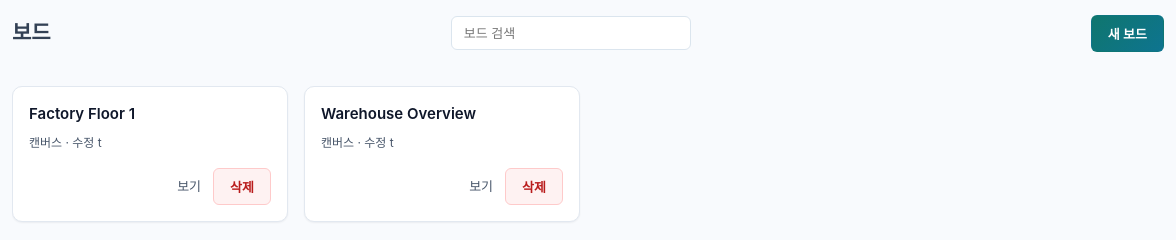
it: BoardsListPage › filters the board list by name as the search query changes
Expected: the link "Factory Floor 1" is shown, [29,104,135,123]
Type "floor" into the search field labelled "보드 검색" at [571, 33], box [451,16,691,50]
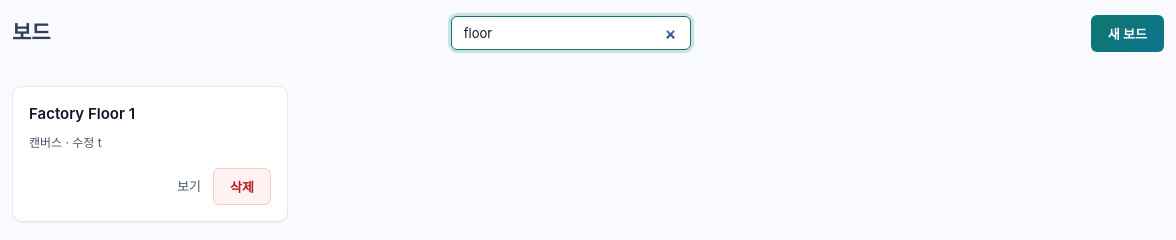
Expected: the link "Factory Floor 1" is shown, [29,104,135,123]
Expected: the link "Warehouse Overview" is gone
